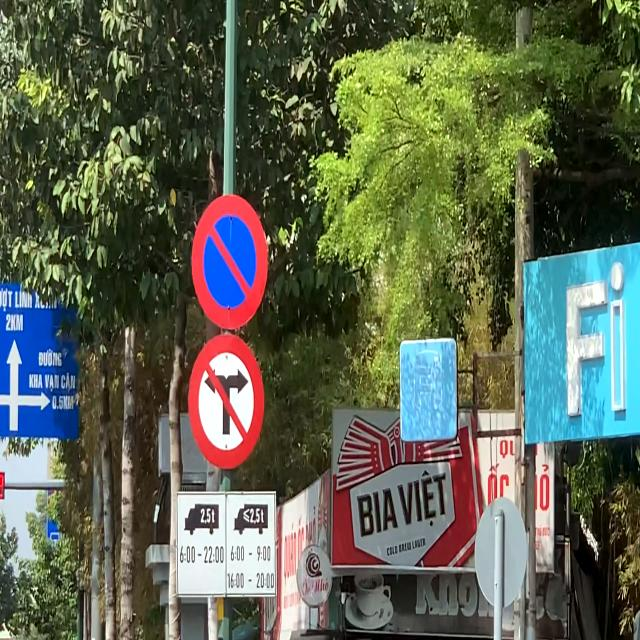P.131a: (187, 185, 271, 337)
P.137: (182, 329, 275, 472)
